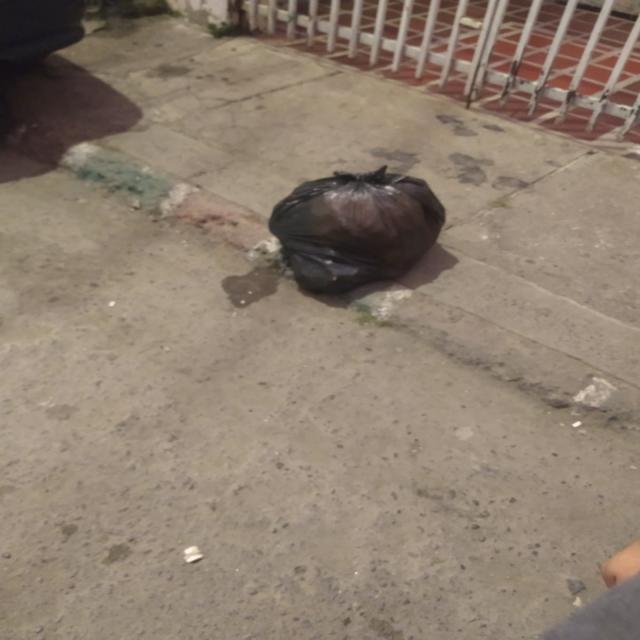Garbage_Bag: (268, 166, 450, 302)
